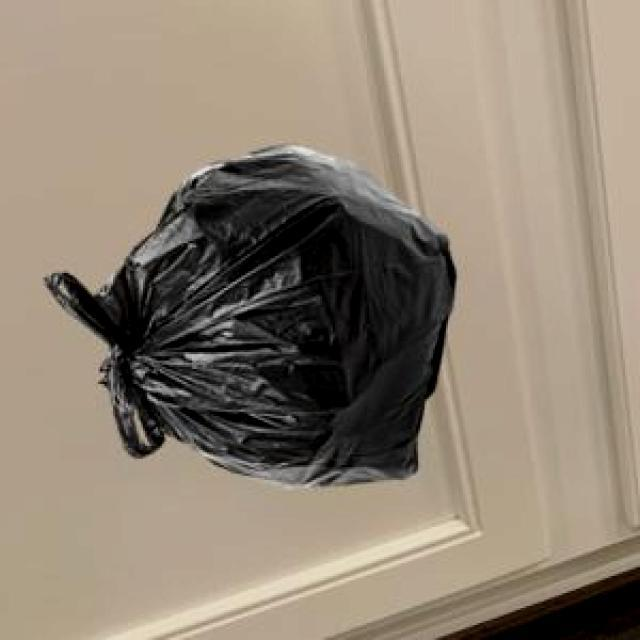Trashbag: (43, 141, 466, 495)
